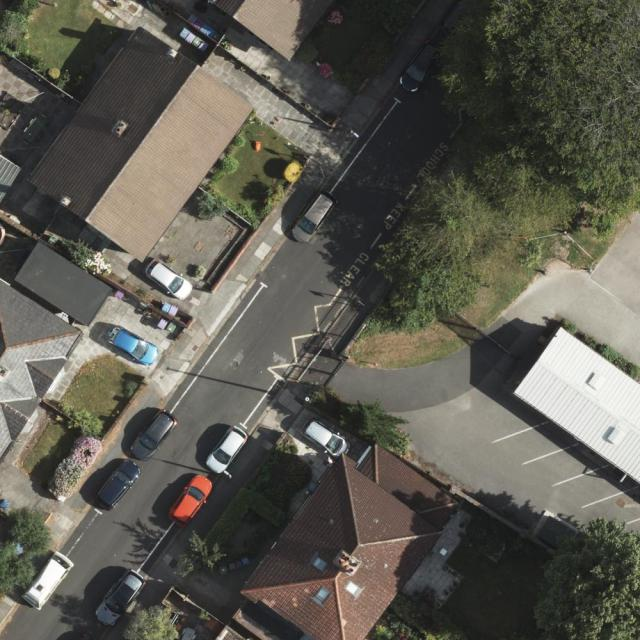roof: (30, 28, 256, 266), (238, 442, 460, 640), (514, 329, 640, 485), (0, 277, 83, 464), (15, 240, 113, 329), (211, 0, 338, 63), (0, 152, 22, 201)
skylight: (308, 553, 330, 573), (313, 584, 333, 606), (343, 577, 362, 597)
